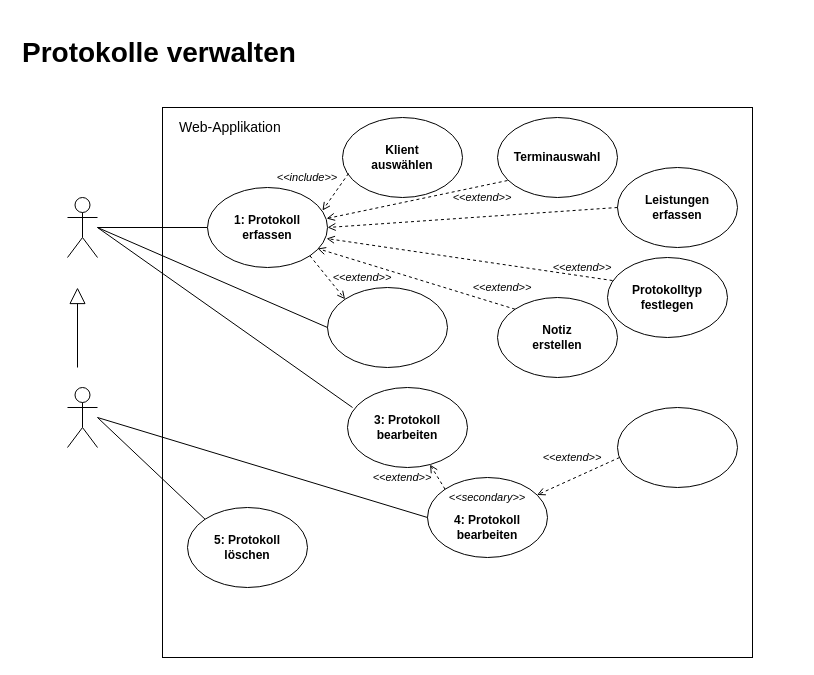
This 814x675 diagram has some shape labels left out. The centre of each missing label's shape, as x and y in pixels:
2: Termin wahrnehmen: the point at 387,327
Administrator: the point at 82,417
Benutzer: the point at 82,227
Pfleger auswählen: the point at 677,447
